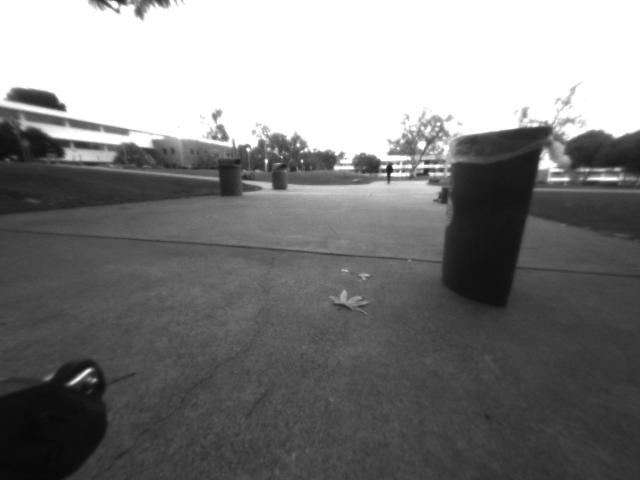trashcan: (436, 118, 554, 322)
